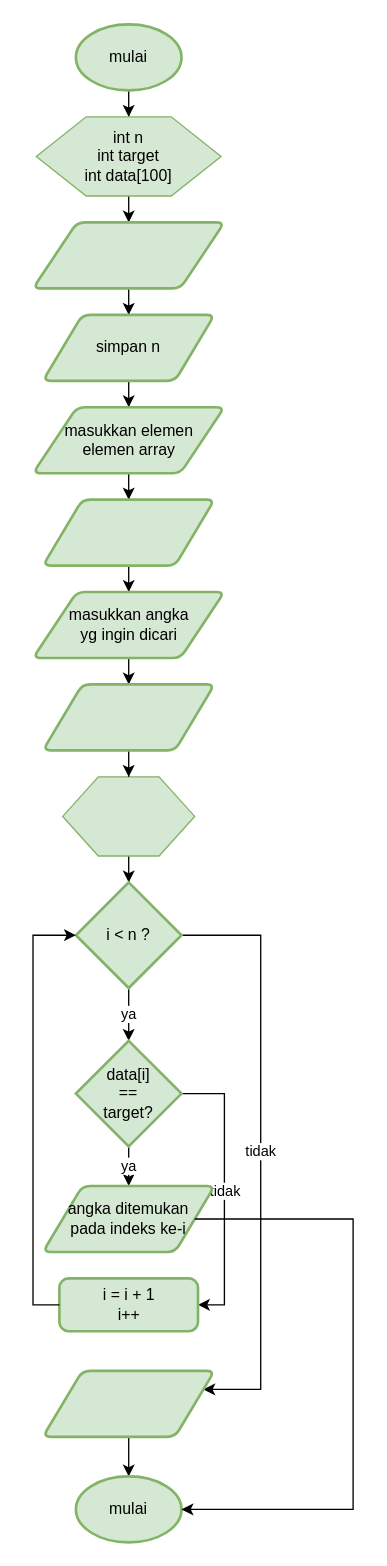
Image size: 387x1566. Some labels were removed from this diagram. The shapes that lost their labels are listed below. From the top down, each one's centre as x and y in pixels, then its label:
At pixel 128 254: "masukkan jumlah elemen".
At pixel 128 532: "simpan data[i]".
At pixel 128 716: "simpan target".
At pixel 128 816: "i = 0".
At pixel 128 1403: "angka tidak ditemukan".
